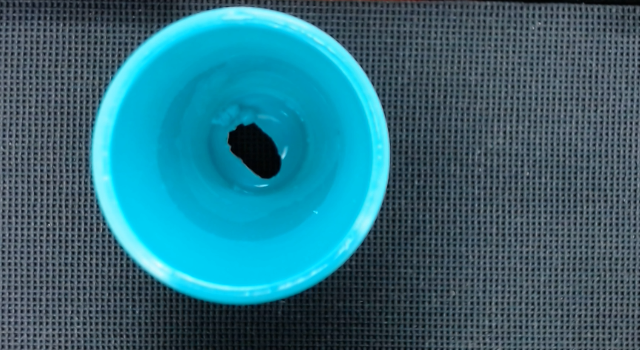hole: (228, 123, 282, 178)
